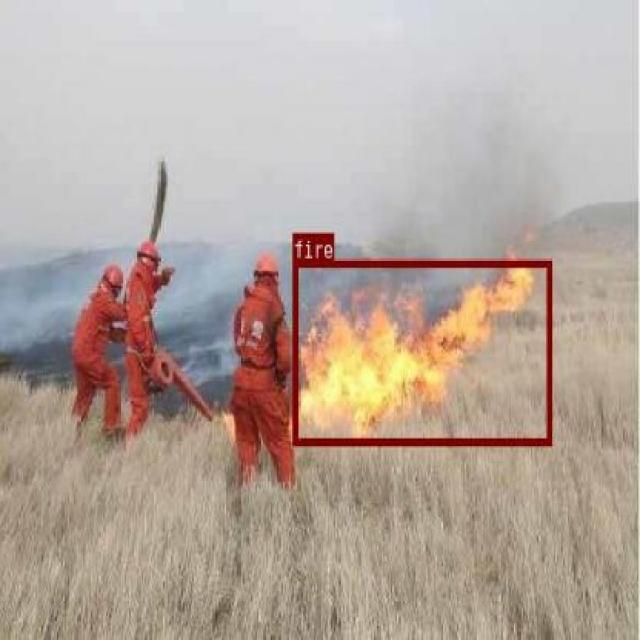Fire: (292, 259, 552, 444)
